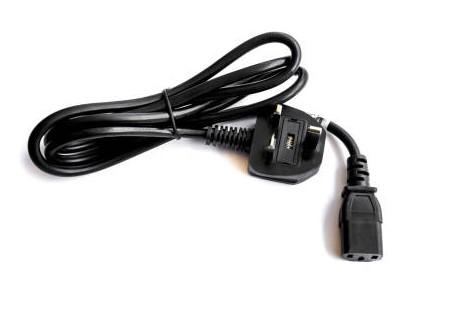cable: (28, 32, 384, 261)
